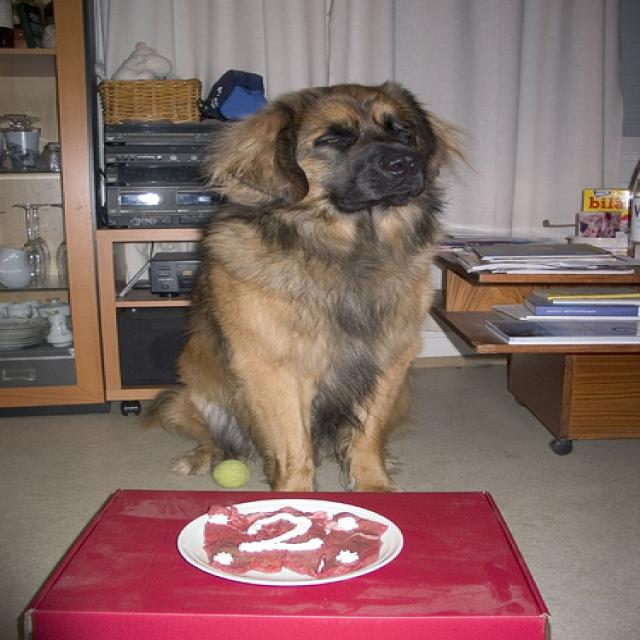dog-leonberger: (131, 68, 486, 506)
